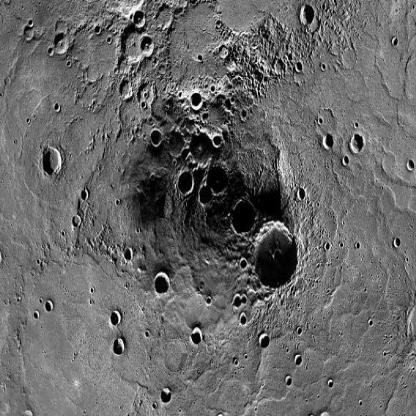craters: (244, 221, 305, 294), (37, 134, 65, 190), (227, 196, 260, 235), (270, 362, 306, 396), (188, 129, 214, 168), (183, 322, 209, 356), (174, 167, 198, 201), (139, 31, 163, 63), (163, 130, 188, 160), (209, 164, 231, 197), (143, 122, 165, 154), (151, 386, 181, 409), (295, 1, 317, 32), (52, 29, 74, 60), (112, 74, 136, 102), (110, 337, 132, 367), (230, 247, 250, 279), (153, 275, 174, 305), (346, 123, 364, 157), (208, 124, 227, 156), (66, 210, 89, 236), (333, 144, 357, 168), (184, 89, 207, 114), (318, 129, 340, 154), (250, 326, 272, 350), (199, 186, 218, 213), (293, 51, 312, 78), (393, 231, 410, 261), (231, 288, 251, 313), (283, 350, 308, 370), (24, 16, 40, 47), (119, 238, 134, 270), (84, 282, 100, 312), (237, 284, 255, 310), (111, 302, 126, 332), (0, 68, 18, 92), (398, 151, 415, 176), (129, 10, 150, 30), (48, 98, 66, 121), (40, 300, 59, 321), (274, 52, 288, 78), (42, 43, 60, 62), (236, 309, 250, 333), (60, 222, 73, 246), (139, 100, 155, 119), (90, 22, 109, 38), (325, 373, 338, 396), (298, 186, 310, 210), (32, 303, 46, 323), (142, 320, 152, 348), (388, 35, 404, 52), (316, 108, 330, 127), (95, 162, 109, 178), (110, 192, 124, 208), (60, 57, 77, 70), (355, 238, 366, 258), (78, 186, 90, 202), (37, 290, 47, 309), (323, 240, 334, 256), (24, 114, 35, 128), (340, 236, 348, 254), (104, 33, 114, 46), (295, 326, 303, 336)
